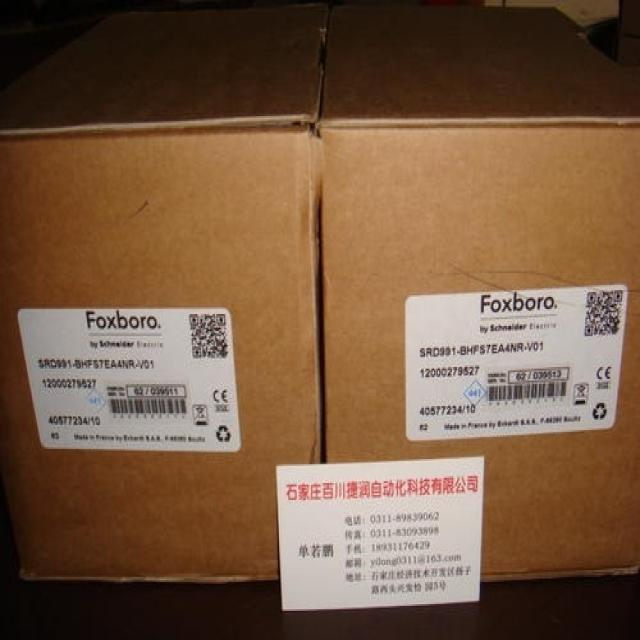box: (317, 0, 640, 584), (544, 0, 618, 31), (618, 0, 640, 77)
